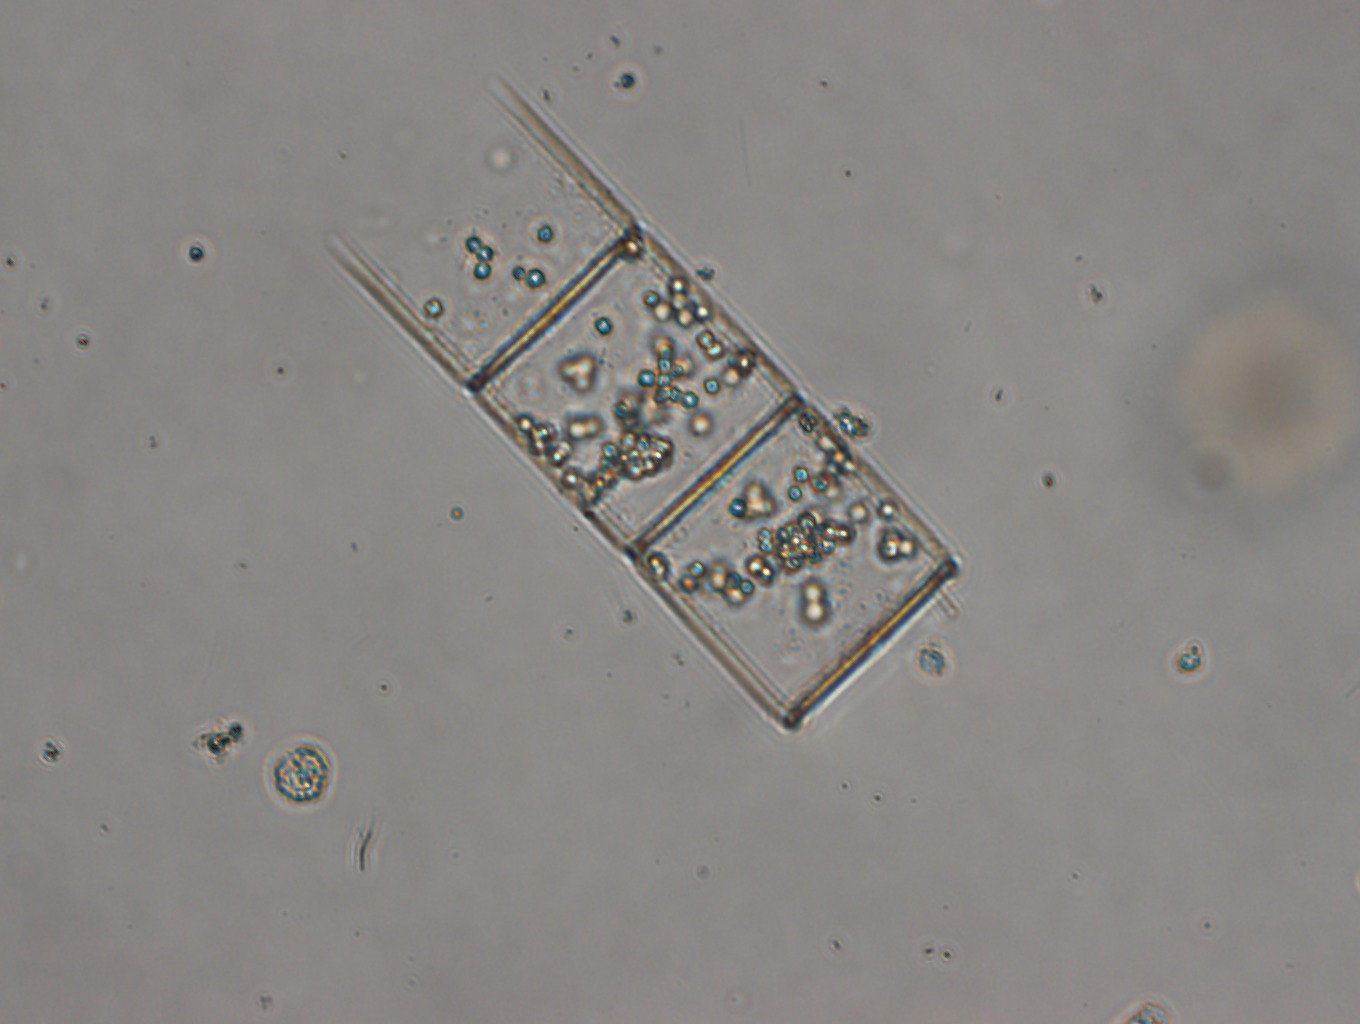guinardia flaccida: (325, 79, 960, 733)
